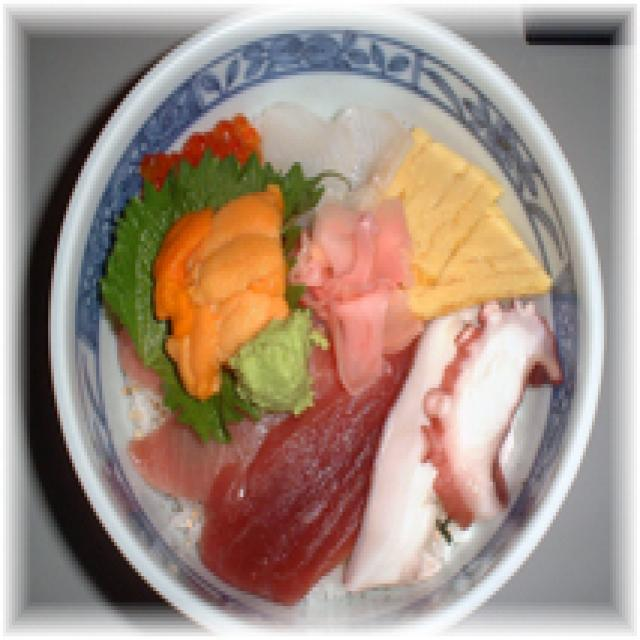刺身生食: (42, 8, 610, 618)
